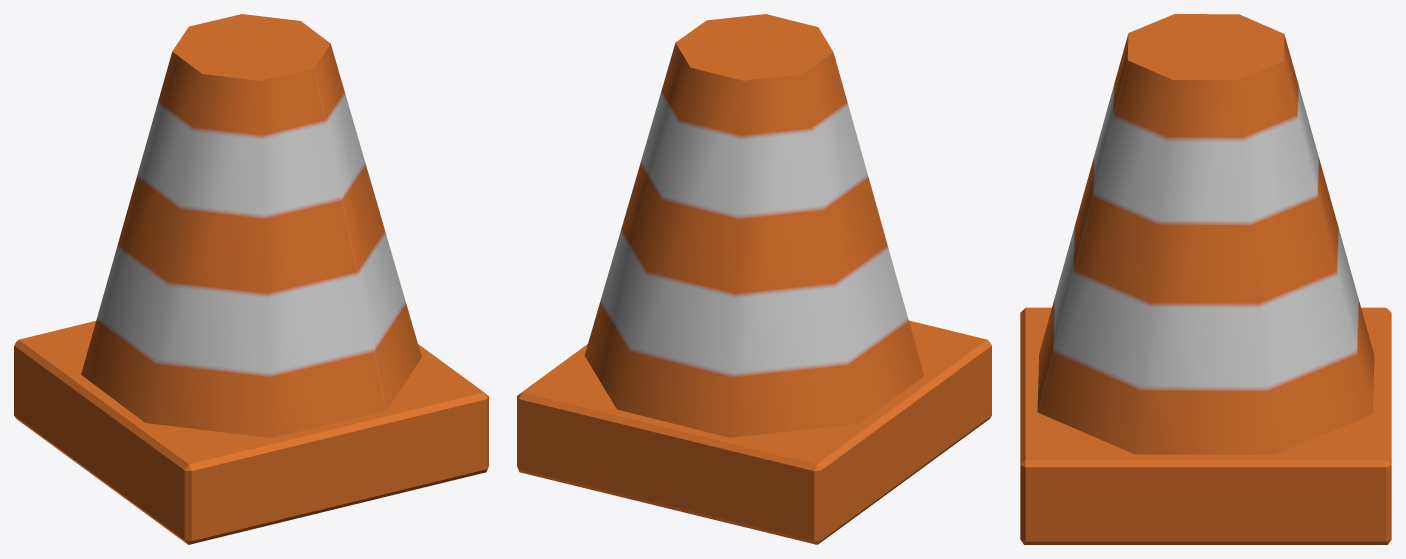
File: Road_column_simple.FBX
3 renders of one model, left to right at view 1: azimuth 30°, elevation 25°; view 2: azimuth 150°, elevation 25°; view 3: azimuth 270°, elevation 25°, orthographic. The views are drawn at different scales.
Parts seen in each view (by area): view 1: Road_column_simple; view 2: Road_column_simple; view 3: Road_column_simple.
Part boxes in pixels (x1,y1,x2,y2): Road_column_simple: (14,14,488,544); Road_column_simple: (517,14,991,544); Road_column_simple: (1020,14,1391,544).
Size of the model in its own units: 200 by 200 by 250.
